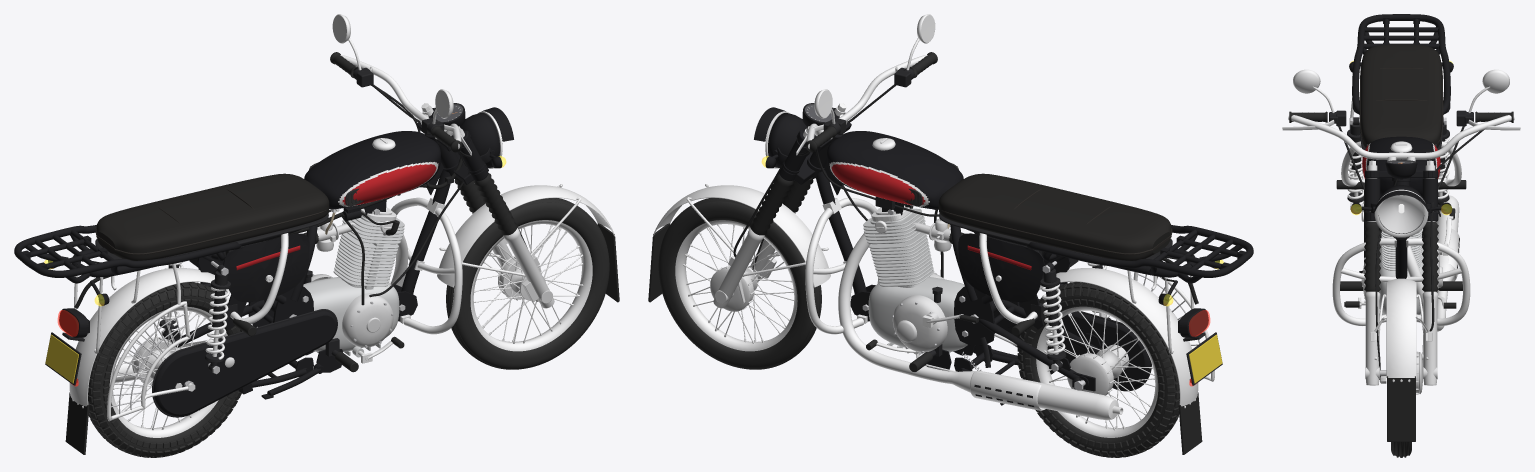
Rendered from bike_boda_boda.glb.
3 views of the same model, side by side, from view 1: azimuth 30°, elevation 25°; view 2: azimuth 150°, elevation 25°; view 3: azimuth 270°, elevation 25° (orthographic). The views are drawn at different scales.
Visible parts, largest first — view 1: frame_body__seat, transmission__chain_case, wheels__front_wheel__tyre, wheels__rear_wheel__tyre, frame_body__fuel_tank, frame_body__frame__tubes, frame_body__carrier, frame_body__side_panels__left, frame_body__rear_mudguard, frame_body__front_mudguard, wheels__front_wheel__rim, powertrain__engine__crankcase (+27 smaller); view 2: frame_body__seat, wheels__front_wheel__tyre, wheels__rear_wheel__tyre, frame_body__fuel_tank, frame_body__frame__tubes, frame_body__carrier, frame_body__side_panels__right, frame_body__rear_mudguard, powertrain__engine__crankcase, transmission__chain_case, frame_body__front_mudguard, wheels__front_wheel__rim (+28 smaller); view 3: frame_body__seat, frame_body__carrier, frame_body__front_mudguard, frame_body__crash_guard_front, frame_body__front_mudguard__mudflap, chassis__handlebar__bar, frame_body__fuel_tank, electrical__headlight__reflector, electrical__headlight__lens, chassis__front_fork__right_slider, chassis__front_fork__left_slider, chassis__handlebar__mirrors (+28 smaller).
Boxes of the visible parts, <box> form: frame_body__seat: <box>96,173,329,260</box>; transmission__chain_case: <box>152,309,337,417</box>; wheels__front_wheel__tyre: <box>446,198,609,369</box>; wheels__rear_wheel__tyre: <box>88,282,242,457</box>; frame_body__fuel_tank: <box>304,131,440,209</box>; frame_body__frame__tubes: <box>71,162,450,372</box>; frame_body__carrier: <box>14,225,241,283</box>; frame_body__side_panels__left: <box>223,233,309,302</box>; frame_body__rear_mudguard: <box>69,268,228,406</box>; frame_body__front_mudguard: <box>437,185,614,287</box>; wheels__front_wheel__rim: <box>470,220,592,351</box>; powertrain__engine__crankcase: <box>303,277,399,357</box>; frame_body__seat: <box>938,173,1171,260</box>; wheels__front_wheel__tyre: <box>658,198,821,369</box>; wheels__rear_wheel__tyre: <box>1017,282,1179,457</box>; frame_body__fuel_tank: <box>827,131,963,209</box>; frame_body__frame__tubes: <box>816,162,1196,370</box>; frame_body__carrier: <box>1026,225,1253,283</box>; frame_body__side_panels__right: <box>958,233,1044,302</box>; frame_body__rear_mudguard: <box>1039,268,1198,406</box>; powertrain__engine__crankcase: <box>868,277,967,355</box>; transmission__chain_case: <box>1003,299,1151,391</box>; frame_body__front_mudguard: <box>653,185,830,287</box>; wheels__front_wheel__rim: <box>675,220,797,351</box>; frame_body__seat: <box>1360,44,1442,147</box>; frame_body__carrier: <box>1352,14,1450,114</box>; frame_body__front_mudguard: <box>1386,278,1416,377</box>; frame_body__crash_guard_front: <box>1332,238,1470,325</box>; frame_body__front_mudguard__mudflap: <box>1387,376,1415,441</box>; chassis__handlebar__bar: <box>1288,115,1514,159</box>; frame_body__fuel_tank: <box>1362,136,1440,196</box>; electrical__headlight__reflector: <box>1378,195,1424,233</box>; electrical__headlight__lens: <box>1379,195,1423,233</box>; chassis__front_fork__right_slider: <box>1422,291,1437,385</box>; chassis__front_fork__left_slider: <box>1365,291,1380,385</box>; chassis__handlebar__mirrors: <box>1293,69,1509,93</box>.
Bounding box in the file's own units: 208 × 117 × 79.18.
